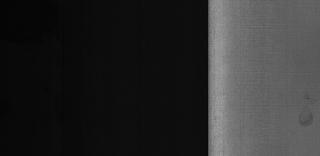oil spot: (284, 90, 318, 128)
